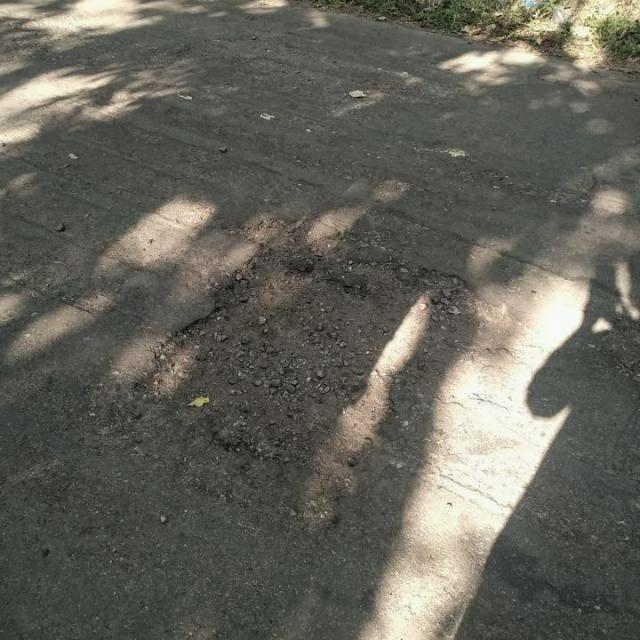Pothole: (129, 242, 484, 478)
